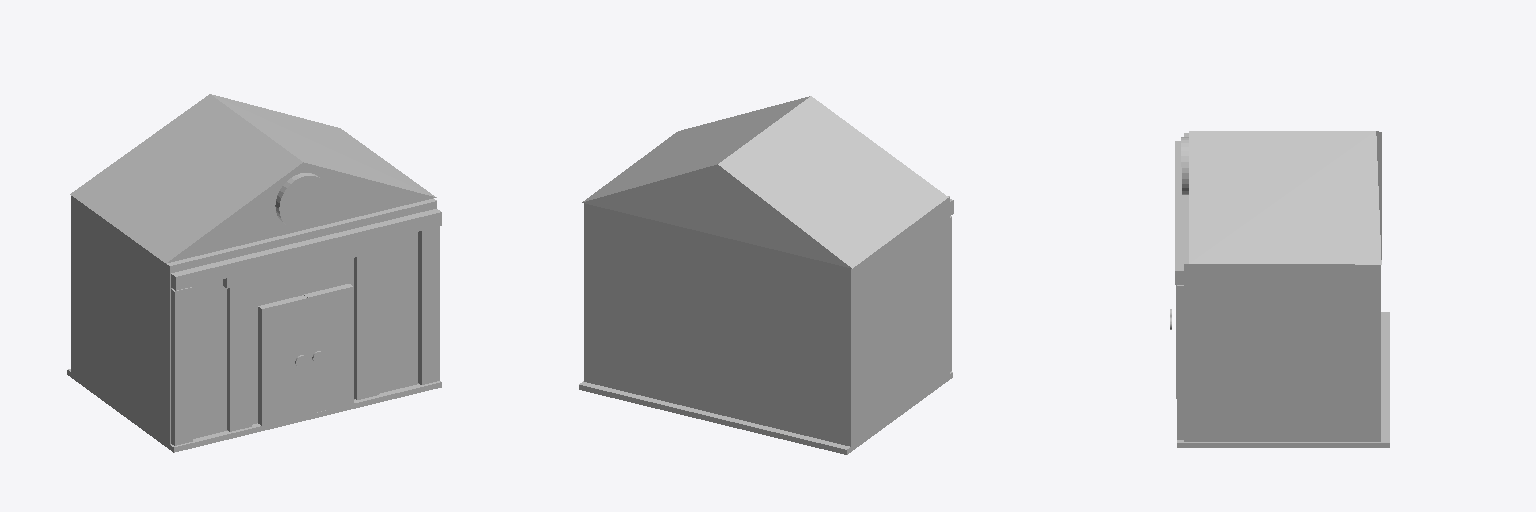
The model's file is museum.obj.
The picture shows the model from 3 angles: view 1: azimuth 30°, elevation 25°; view 2: azimuth 150°, elevation 25°; view 3: azimuth 270°, elevation 25°; orthographic projection.
Visible parts, largest first — view 1: Cube_Cube.001, Cube.001_Cube.017, Cube.009_Cube.015, Cube.011_Cube.016, Cube.002_Cube.003, Cube.004_Cube.005, Cube.005_Cube.007, Cube.006_Cube.008, Cube.007_Cube.009, Cube.008_Cube.010, Cylinder, Cube.003_Cube.004; view 2: Cube_Cube.001, Cube.001_Cube.017, Cube.008_Cube.010; view 3: Cube_Cube.001, Cube.001_Cube.017, Cube.008_Cube.010, Cube.002_Cube.003, Cube.007_Cube.009.
Part boxes in pixels (bbox=[...]): Cube_Cube.001: bbox=[71, 196, 436, 444]; Cube.001_Cube.017: bbox=[70, 94, 436, 263]; Cube.009_Cube.015: bbox=[258, 295, 307, 425]; Cube.011_Cube.016: bbox=[304, 284, 353, 414]; Cube.002_Cube.003: bbox=[171, 209, 441, 290]; Cube.004_Cube.005: bbox=[227, 283, 251, 431]; Cube.005_Cube.007: bbox=[354, 252, 378, 399]; Cube.006_Cube.008: bbox=[171, 287, 192, 445]; Cube.007_Cube.009: bbox=[418, 227, 439, 384]; Cube.008_Cube.010: bbox=[67, 369, 441, 452]; Cylinder: bbox=[275, 173, 329, 229]; Cube.003_Cube.004: bbox=[223, 240, 384, 288]; Cube_Cube.001: bbox=[584, 196, 949, 446]; Cube.001_Cube.017: bbox=[582, 96, 948, 268]; Cube.008_Cube.010: bbox=[579, 371, 952, 454]; Cube_Cube.001: bbox=[1184, 133, 1380, 441]; Cube.001_Cube.017: bbox=[1189, 131, 1381, 264]; Cube.008_Cube.010: bbox=[1177, 312, 1389, 447]; Cube.002_Cube.003: bbox=[1175, 141, 1183, 284]; Cube.007_Cube.009: bbox=[1177, 285, 1183, 439].
Size of the model in its own units: 3.18 by 2.83 by 2.23.